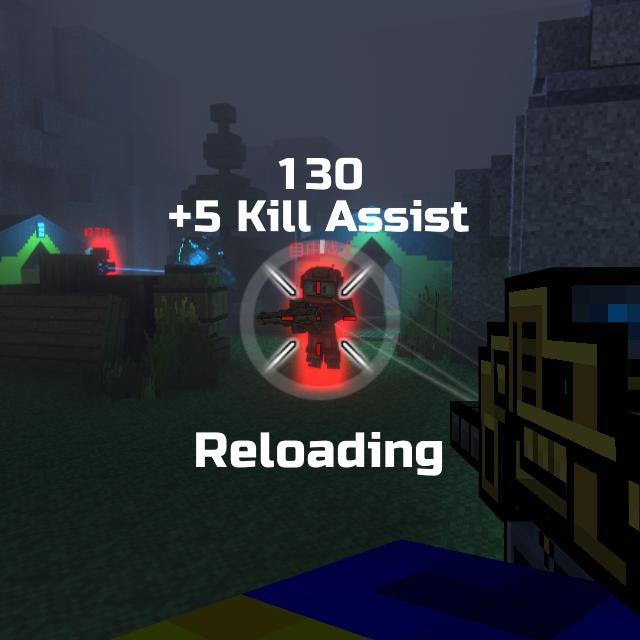Enemy: (290, 268, 358, 373), (89, 247, 116, 276)
